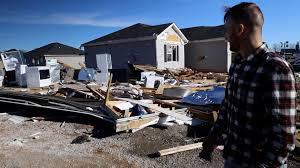minor: (82, 13, 228, 76)
